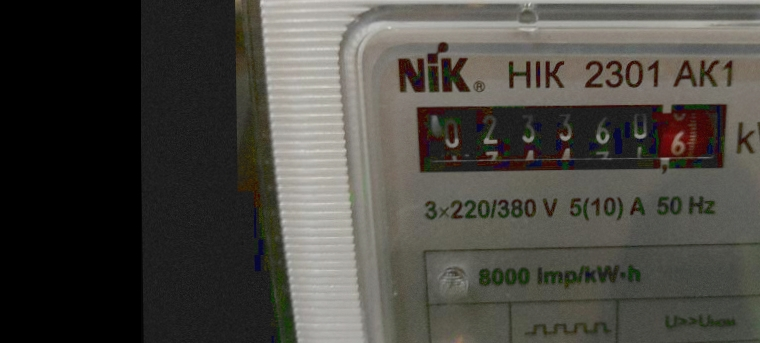0: (441, 115, 462, 149), (632, 109, 649, 140)
2: (479, 112, 502, 146)
3: (517, 111, 538, 144), (556, 110, 575, 141)
6: (592, 112, 612, 145), (667, 126, 688, 156)
screen: (398, 85, 742, 187)
